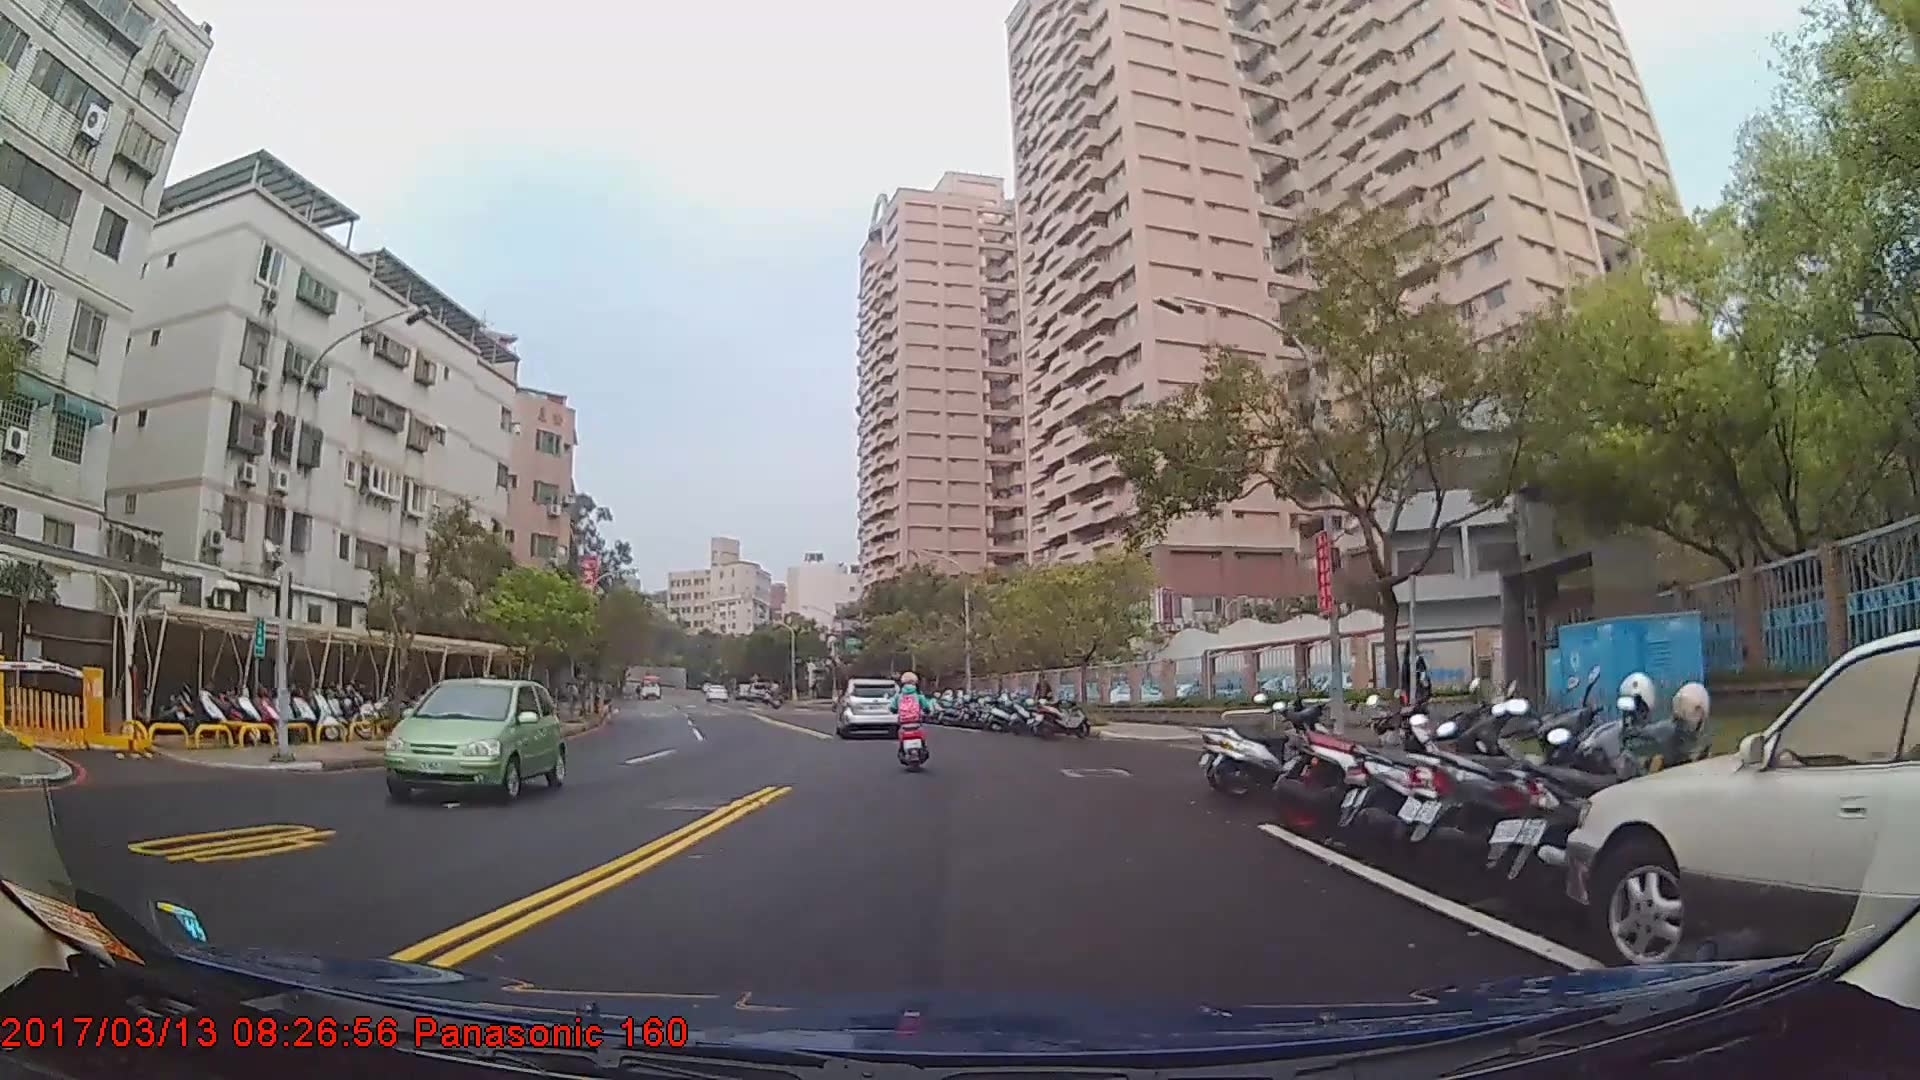pedestrian: (1399, 636, 1433, 755), (1033, 673, 1054, 728)
rider: (891, 673, 935, 778)
vehicle: (1564, 627, 1920, 988), (381, 677, 561, 804), (837, 674, 903, 739), (636, 675, 664, 701)
